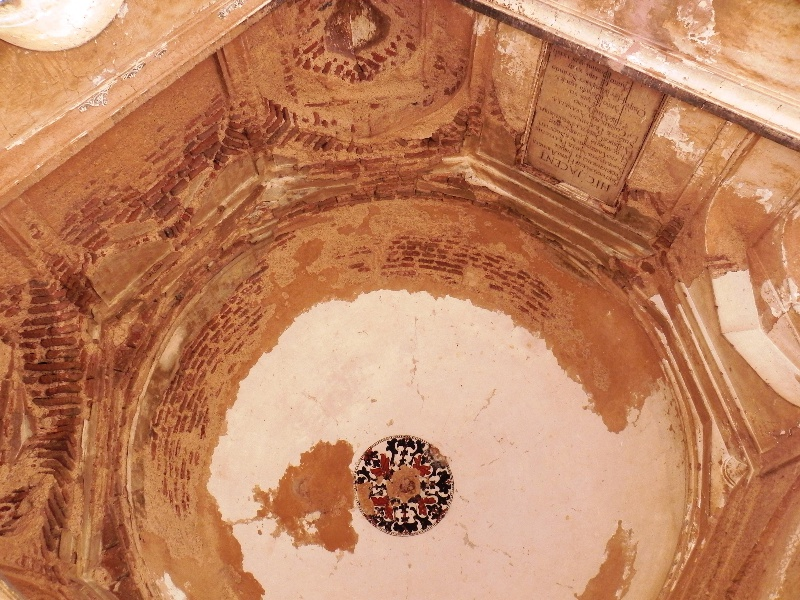Exposed Bricks: (56, 94, 317, 237), (8, 244, 88, 566), (146, 290, 267, 500), (385, 233, 547, 314)
Spalling: (537, 322, 655, 437), (281, 437, 352, 557), (575, 528, 644, 597)
